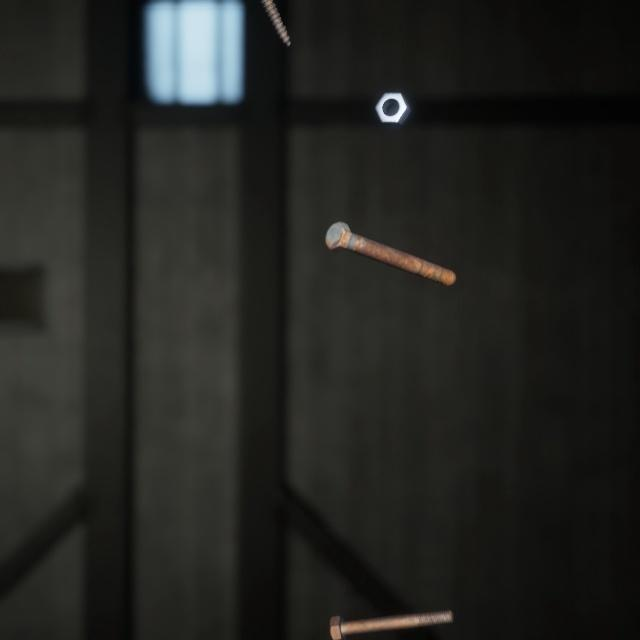bolt: (320, 201, 460, 275), (325, 582, 458, 625), (259, 0, 295, 43)
nut: (370, 77, 415, 118)
